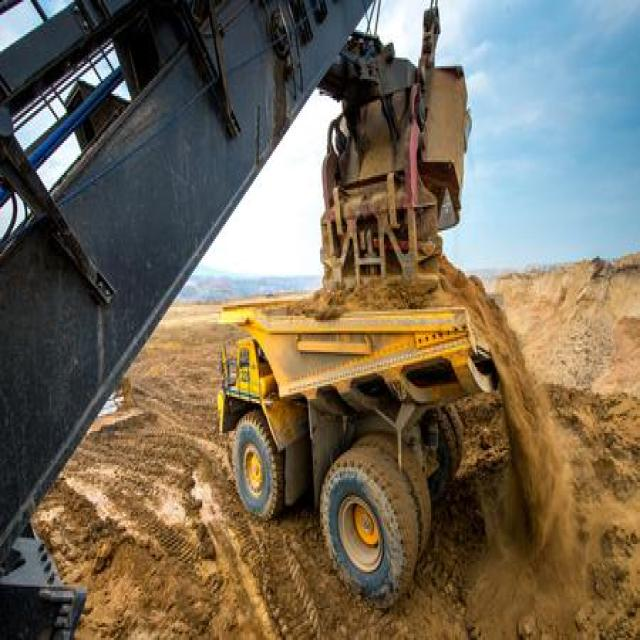Camion volquete: (215, 288, 535, 604)
Excavadora: (0, 0, 472, 638)
